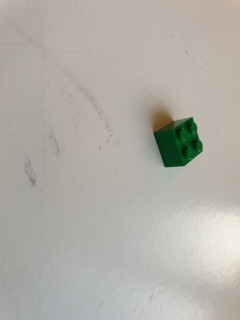2x2 green: (154, 114, 207, 169)
